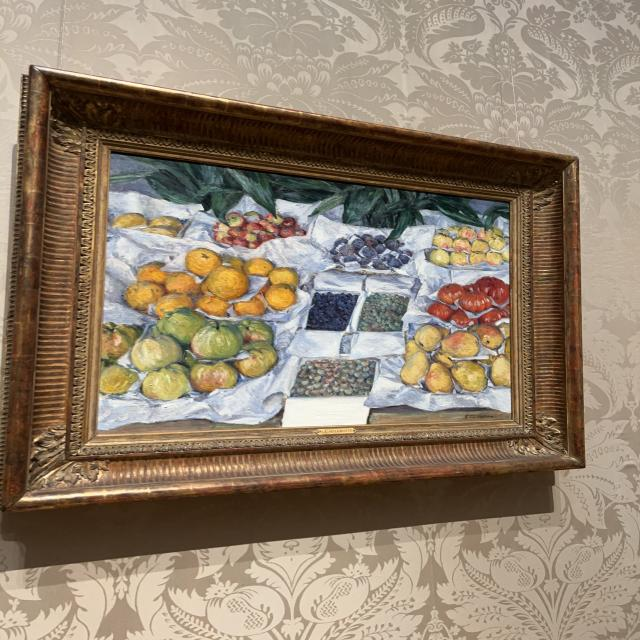fruits: (102, 156, 511, 430)
